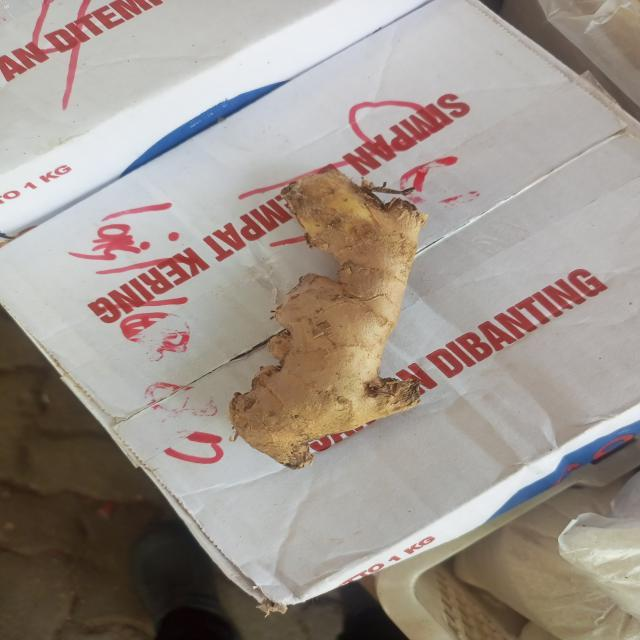ginger: (233, 168, 423, 457)
